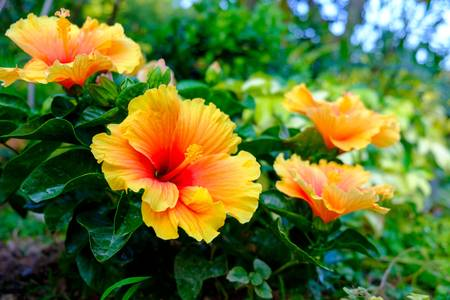Hibiscus: (88, 96, 268, 249), (7, 10, 154, 100), (268, 150, 400, 238), (275, 76, 408, 155)
